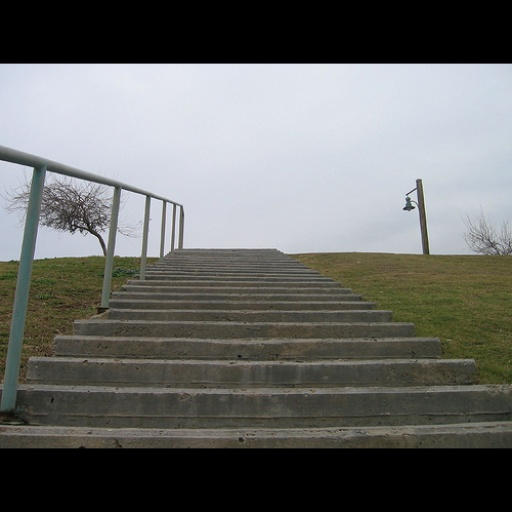Stairs: (0, 249, 512, 448)
